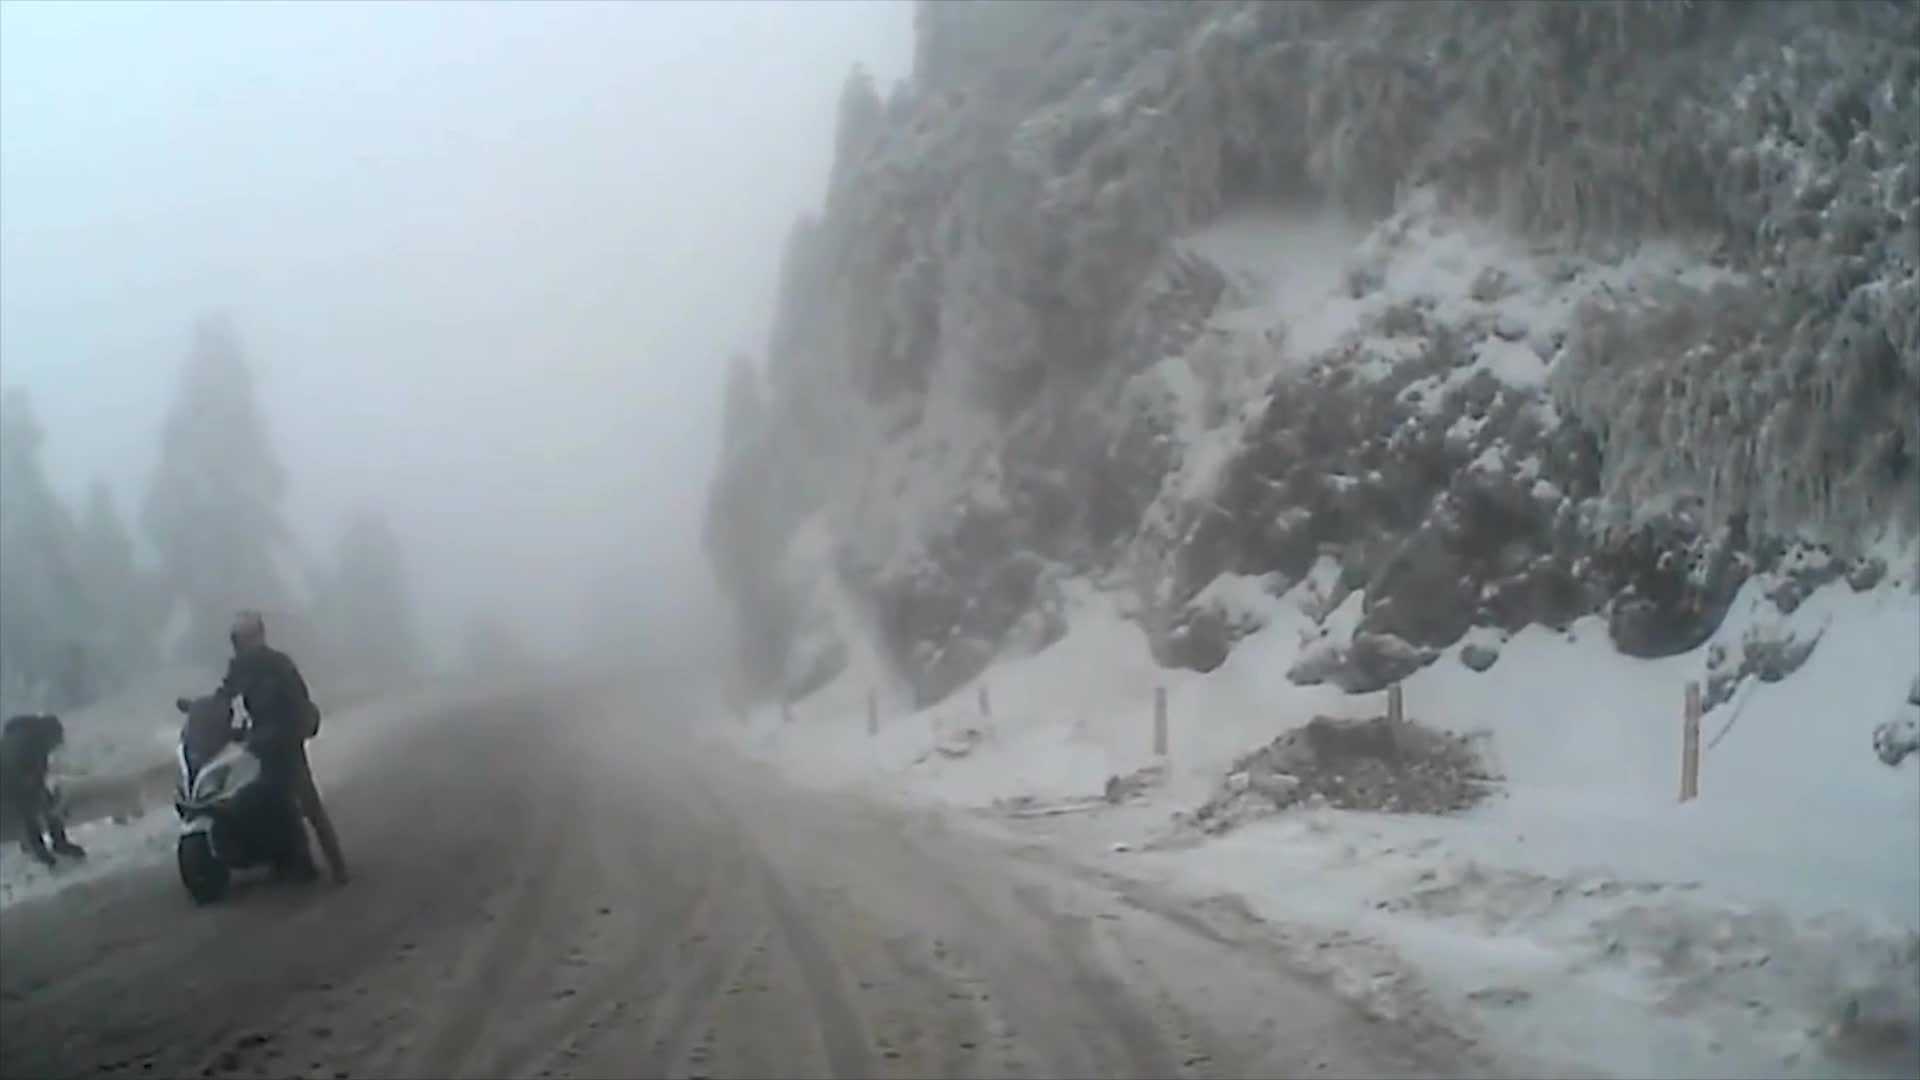pedestrian: (185, 592, 349, 886), (1, 718, 91, 878)
